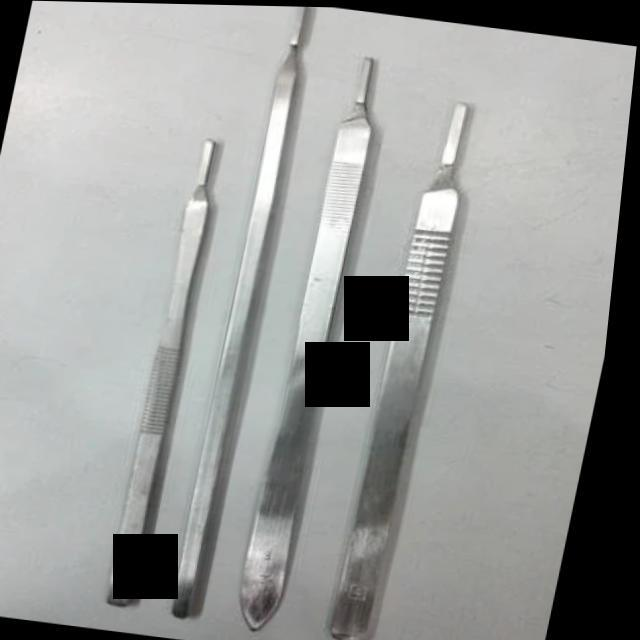Knife handle: (309, 76, 508, 640), (159, 4, 339, 621), (235, 42, 408, 633), (95, 127, 252, 619)
